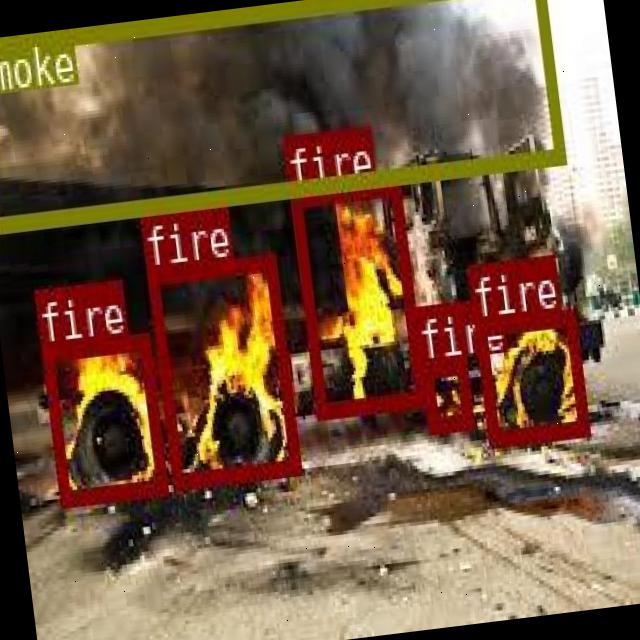fire: (145, 250, 298, 488), (288, 177, 423, 417), (40, 329, 166, 503), (473, 306, 587, 444), (418, 357, 472, 430)
smoke: (0, 0, 564, 229)
